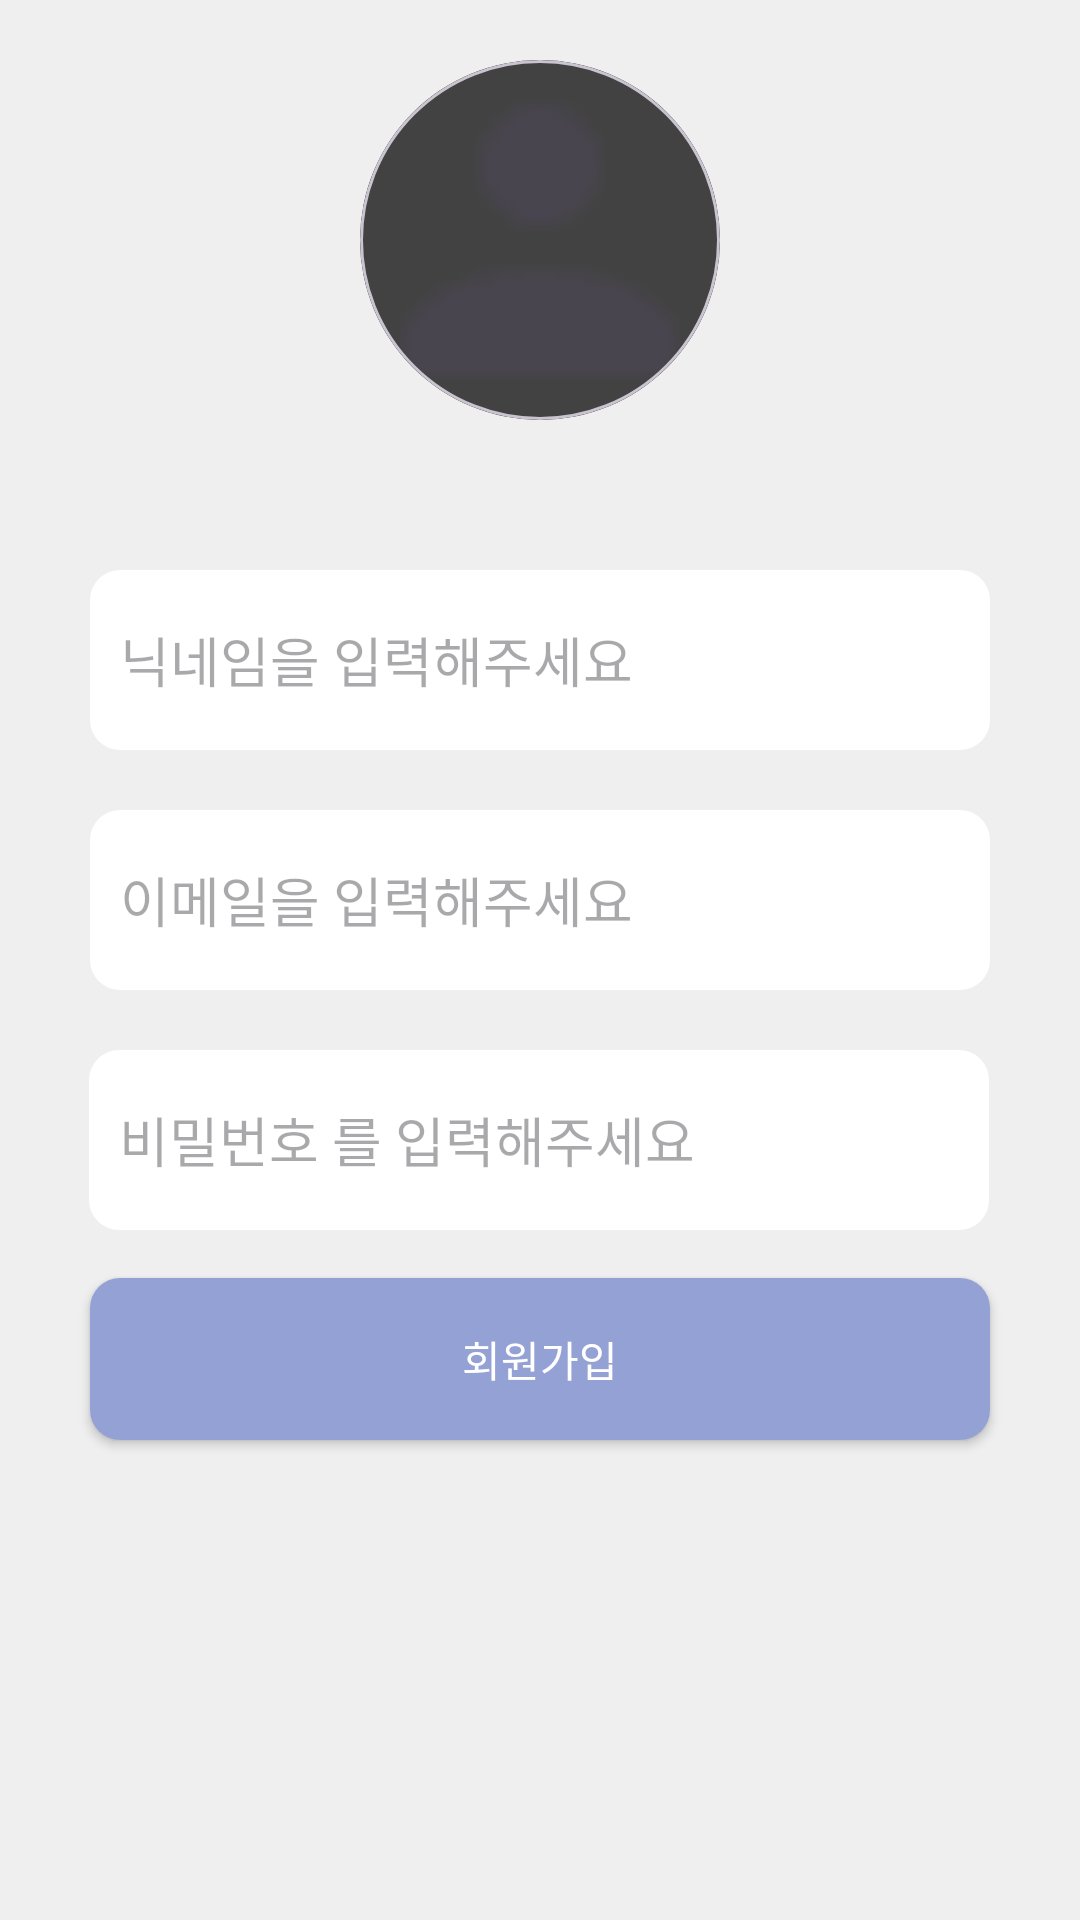

Icon bounding boxes for this 1080*1920 phone screenshot, format box=[x1, y1, x2, y2]:
프로필 이미지 선택: box=[360, 60, 720, 420]
